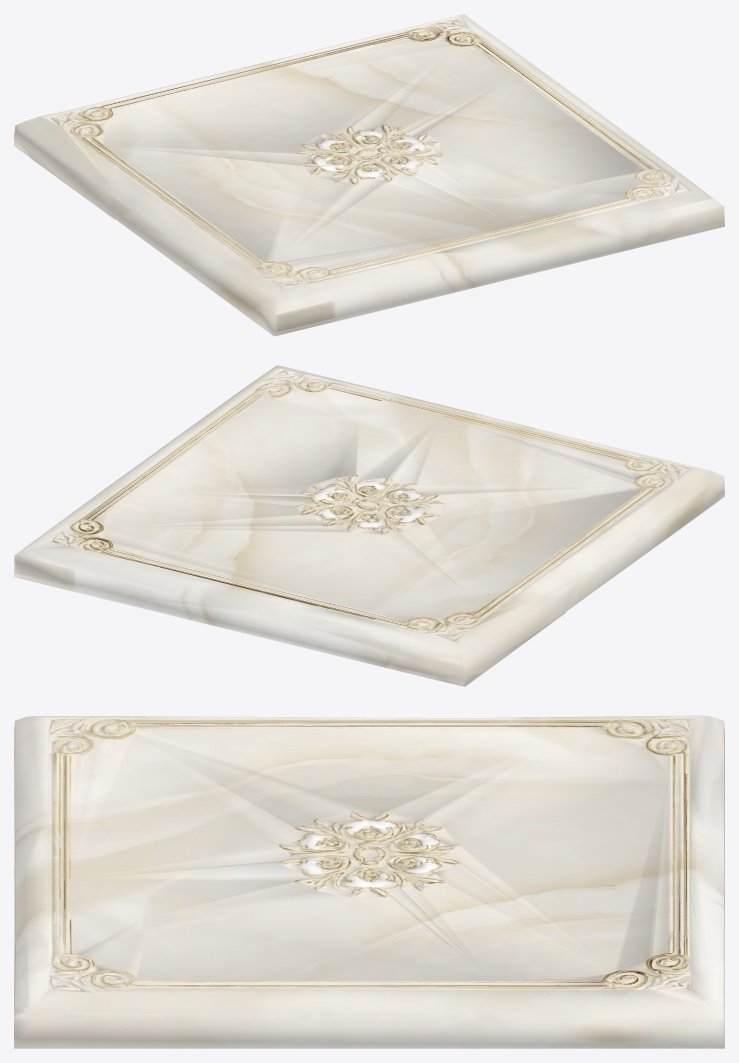
File: floor_tile.glb
3 views of the same model, one above another, from view 1: azimuth 30°, elevation 25°; view 2: azimuth 150°, elevation 25°; view 3: azimuth 270°, elevation 25° (orthographic). The views are drawn at different scales.
Size of the model in its own units: 1.9 by 0.1405 by 1.9.
1 material, 1 textured.
